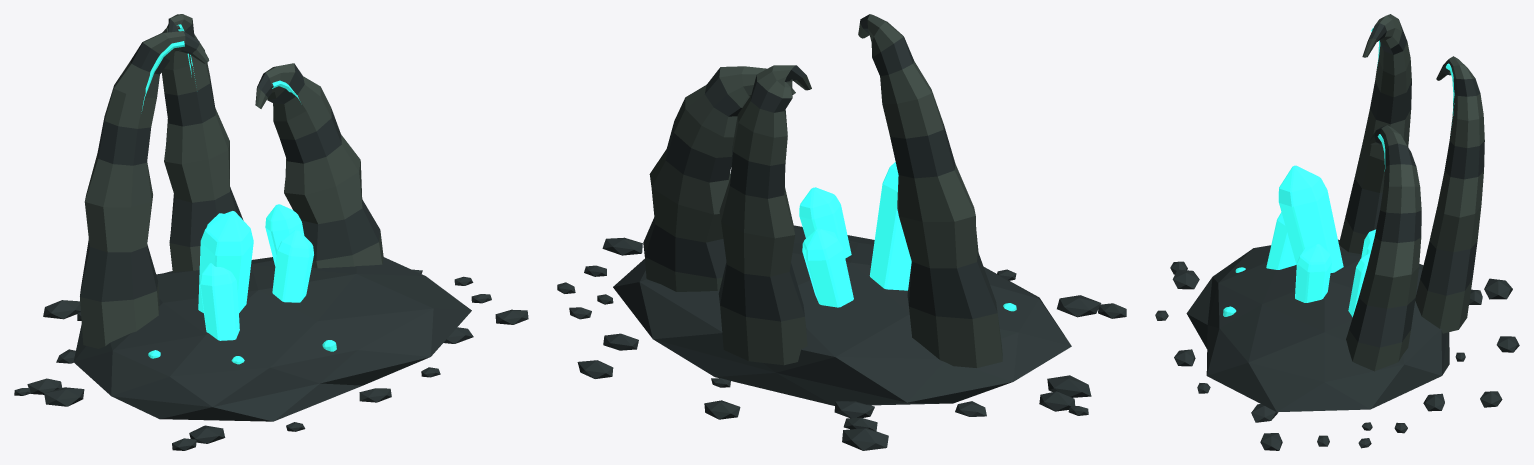
File: SM_AlienMaterialDeposit.fbx
3 renders of one model, left to right at view 1: azimuth 30°, elevation 25°; view 2: azimuth 150°, elevation 25°; view 3: azimuth 270°, elevation 25°, orthographic. The views are drawn at different scales.
Parts seen in each view (by area): view 1: SM_AlienMaterialDeposit.001; view 2: SM_AlienMaterialDeposit.001; view 3: SM_AlienMaterialDeposit.001.
Boxes of the visible parts, x1,y1,x2,y2 form: SM_AlienMaterialDeposit.001: [14, 14, 528, 450]; SM_AlienMaterialDeposit.001: [557, 14, 1126, 450]; SM_AlienMaterialDeposit.001: [1155, 14, 1519, 450].
Bounding box in the file's own units: 277 × 198 × 177.
